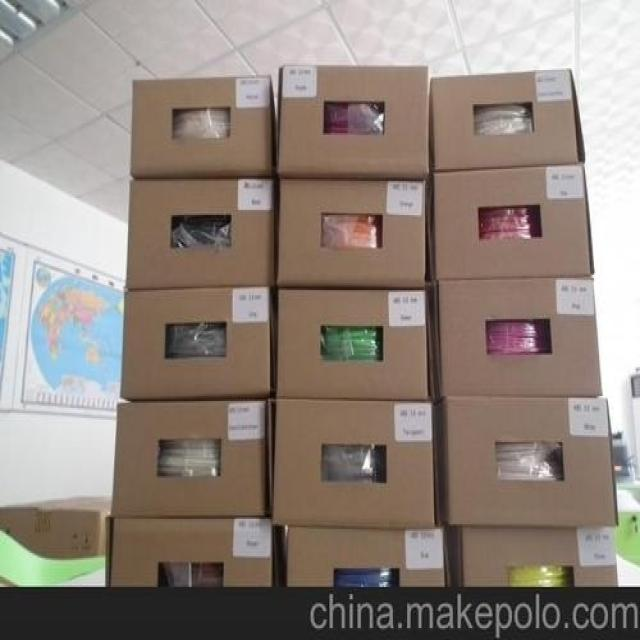box: (432, 396, 618, 526), (269, 396, 436, 526), (430, 278, 602, 402), (112, 396, 271, 516), (429, 165, 594, 280), (119, 288, 273, 402), (275, 289, 429, 402), (275, 65, 429, 177), (125, 179, 274, 290), (277, 179, 428, 288), (428, 69, 586, 171), (128, 77, 277, 180), (106, 517, 274, 587), (280, 524, 451, 587), (450, 528, 619, 587), (0, 495, 114, 560)
